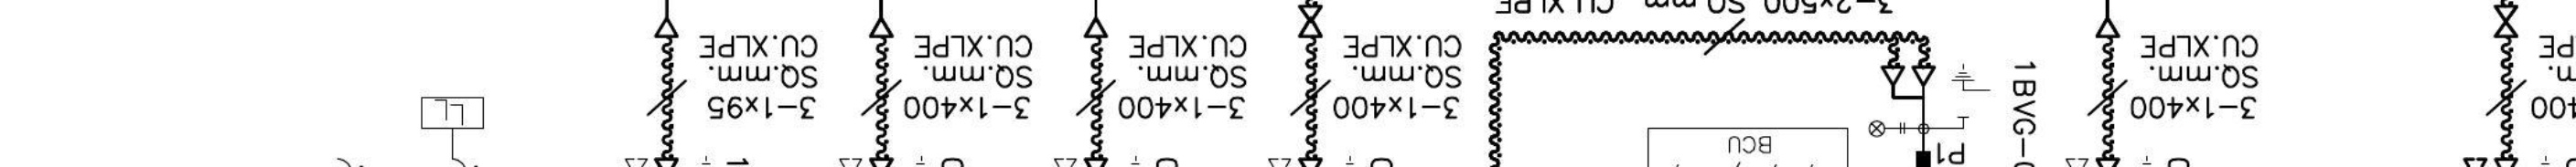22_gs: (1950, 64, 1991, 120)
22_ll: (1868, 120, 1906, 138)
LL: (419, 95, 485, 131)
terminator_double: (1879, 64, 1937, 100)
terminator_single: (652, 16, 680, 39), (867, 16, 895, 39), (1083, 16, 1111, 39), (2095, 16, 2121, 39)
terminator_splicing_kits: (1298, 5, 1324, 39), (2494, 5, 2519, 39)
